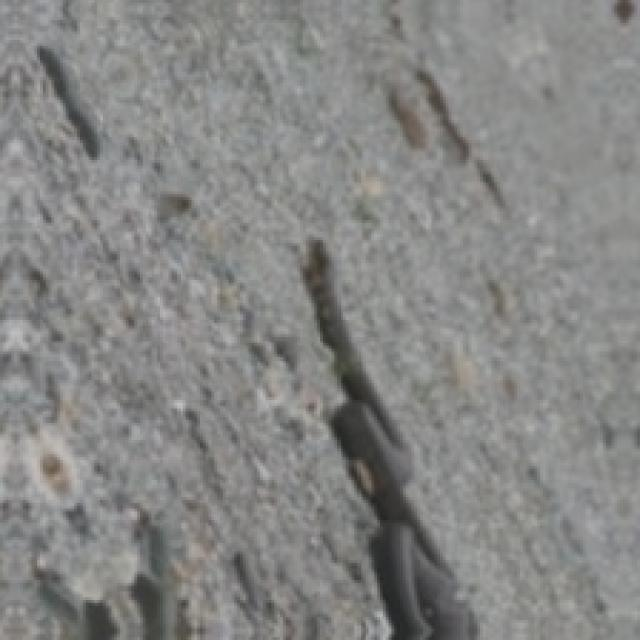king cobra: (303, 240, 474, 637)
